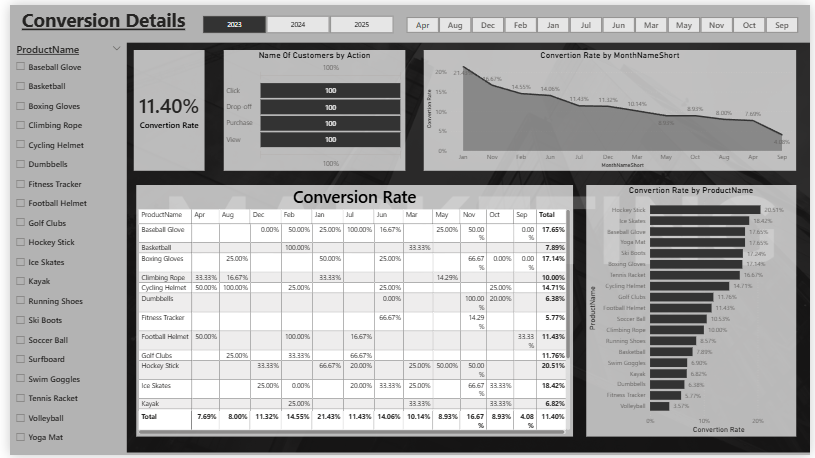

This screenshot's page, from the dashboard's own definition file:
{"tool":"powerbi","page":{"name":"Conversion Details","canvas":[1600,900],"ordinal":1},"visuals":[{"type":"slicer","fields":{"Values":["products.ProductName"]},"box":[0,68.8,233.5,831.2],"z":0},{"type":"shape","box":[0,0,1600,75],"z":1000},{"type":"textbox","box":[0,0,374,76],"z":2000},{"type":"card","fields":{"Values":["Calculation.Convertion Rate"]},"box":[248.3,90,141.7,241.7],"z":3000},{"type":"slicer","fields":{"Values":["Calendar.Year"]},"box":[360,16,430,48],"z":4000},{"type":"slicer","fields":{"Values":["Calendar.MonthNameShort"]},"box":[768,18,832,42],"z":5000},{"type":"lineChart","fields":{"Y":["Calculation.Convertion Rate"],"Category":["Calendar.MonthNameShort"]},"box":[826.7,90,745,241.7],"z":6000},{"type":"clusteredBarChart","fields":{"Category":["products.ProductName"],"Y":["Calculation.Convertion Rate"]},"box":[1151.7,360,420,503.3],"z":7000},{"type":"pivotTable","title":"Conversion Rate","fields":{"Rows":["products.ProductName"],"Values":["Calculation.Convertion Rate"],"Columns":["Calendar.MonthNameShort"]},"box":[251.7,360,873.3,503.3],"z":8000},{"type":"funnel","fields":{"Category":["customer_journey.Action"],"Y":["CountNonNull(customers.CustomerName)"]},"box":[426.7,90,363.3,241.7],"z":9000}]}

Visuals, with their boxes in screenshot pixels (x1, y1, x2, y2), scaled from the page's 1600x900 canvas onto the 815x458 screenshot:
slicer - products.ProductName: bbox=[0, 35, 119, 457]
shape: bbox=[0, 0, 814, 38]
textbox: bbox=[0, 0, 191, 39]
card - Calculation.Convertion Rate: bbox=[126, 46, 199, 169]
slicer - Calendar.Year: bbox=[183, 8, 402, 33]
slicer - Calendar.MonthNameShort: bbox=[391, 9, 814, 31]
lineChart - Calculation.Convertion Rate x Calendar.MonthNameShort: bbox=[421, 46, 801, 169]
clusteredBarChart - products.ProductName x Calculation.Convertion Rate: bbox=[587, 183, 801, 439]
"Conversion Rate" pivotTable: bbox=[128, 183, 573, 439]
funnel - customer_journey.Action x CountNonNull(customers.CustomerName): bbox=[217, 46, 402, 169]
